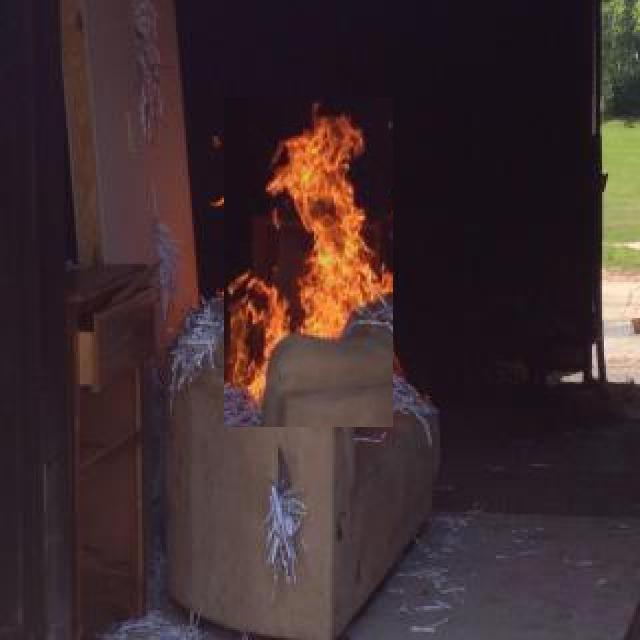fire: (224, 97, 393, 427)
